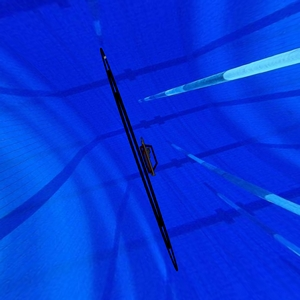circle: (96, 45, 183, 274)
submarine: (137, 136, 159, 177)
